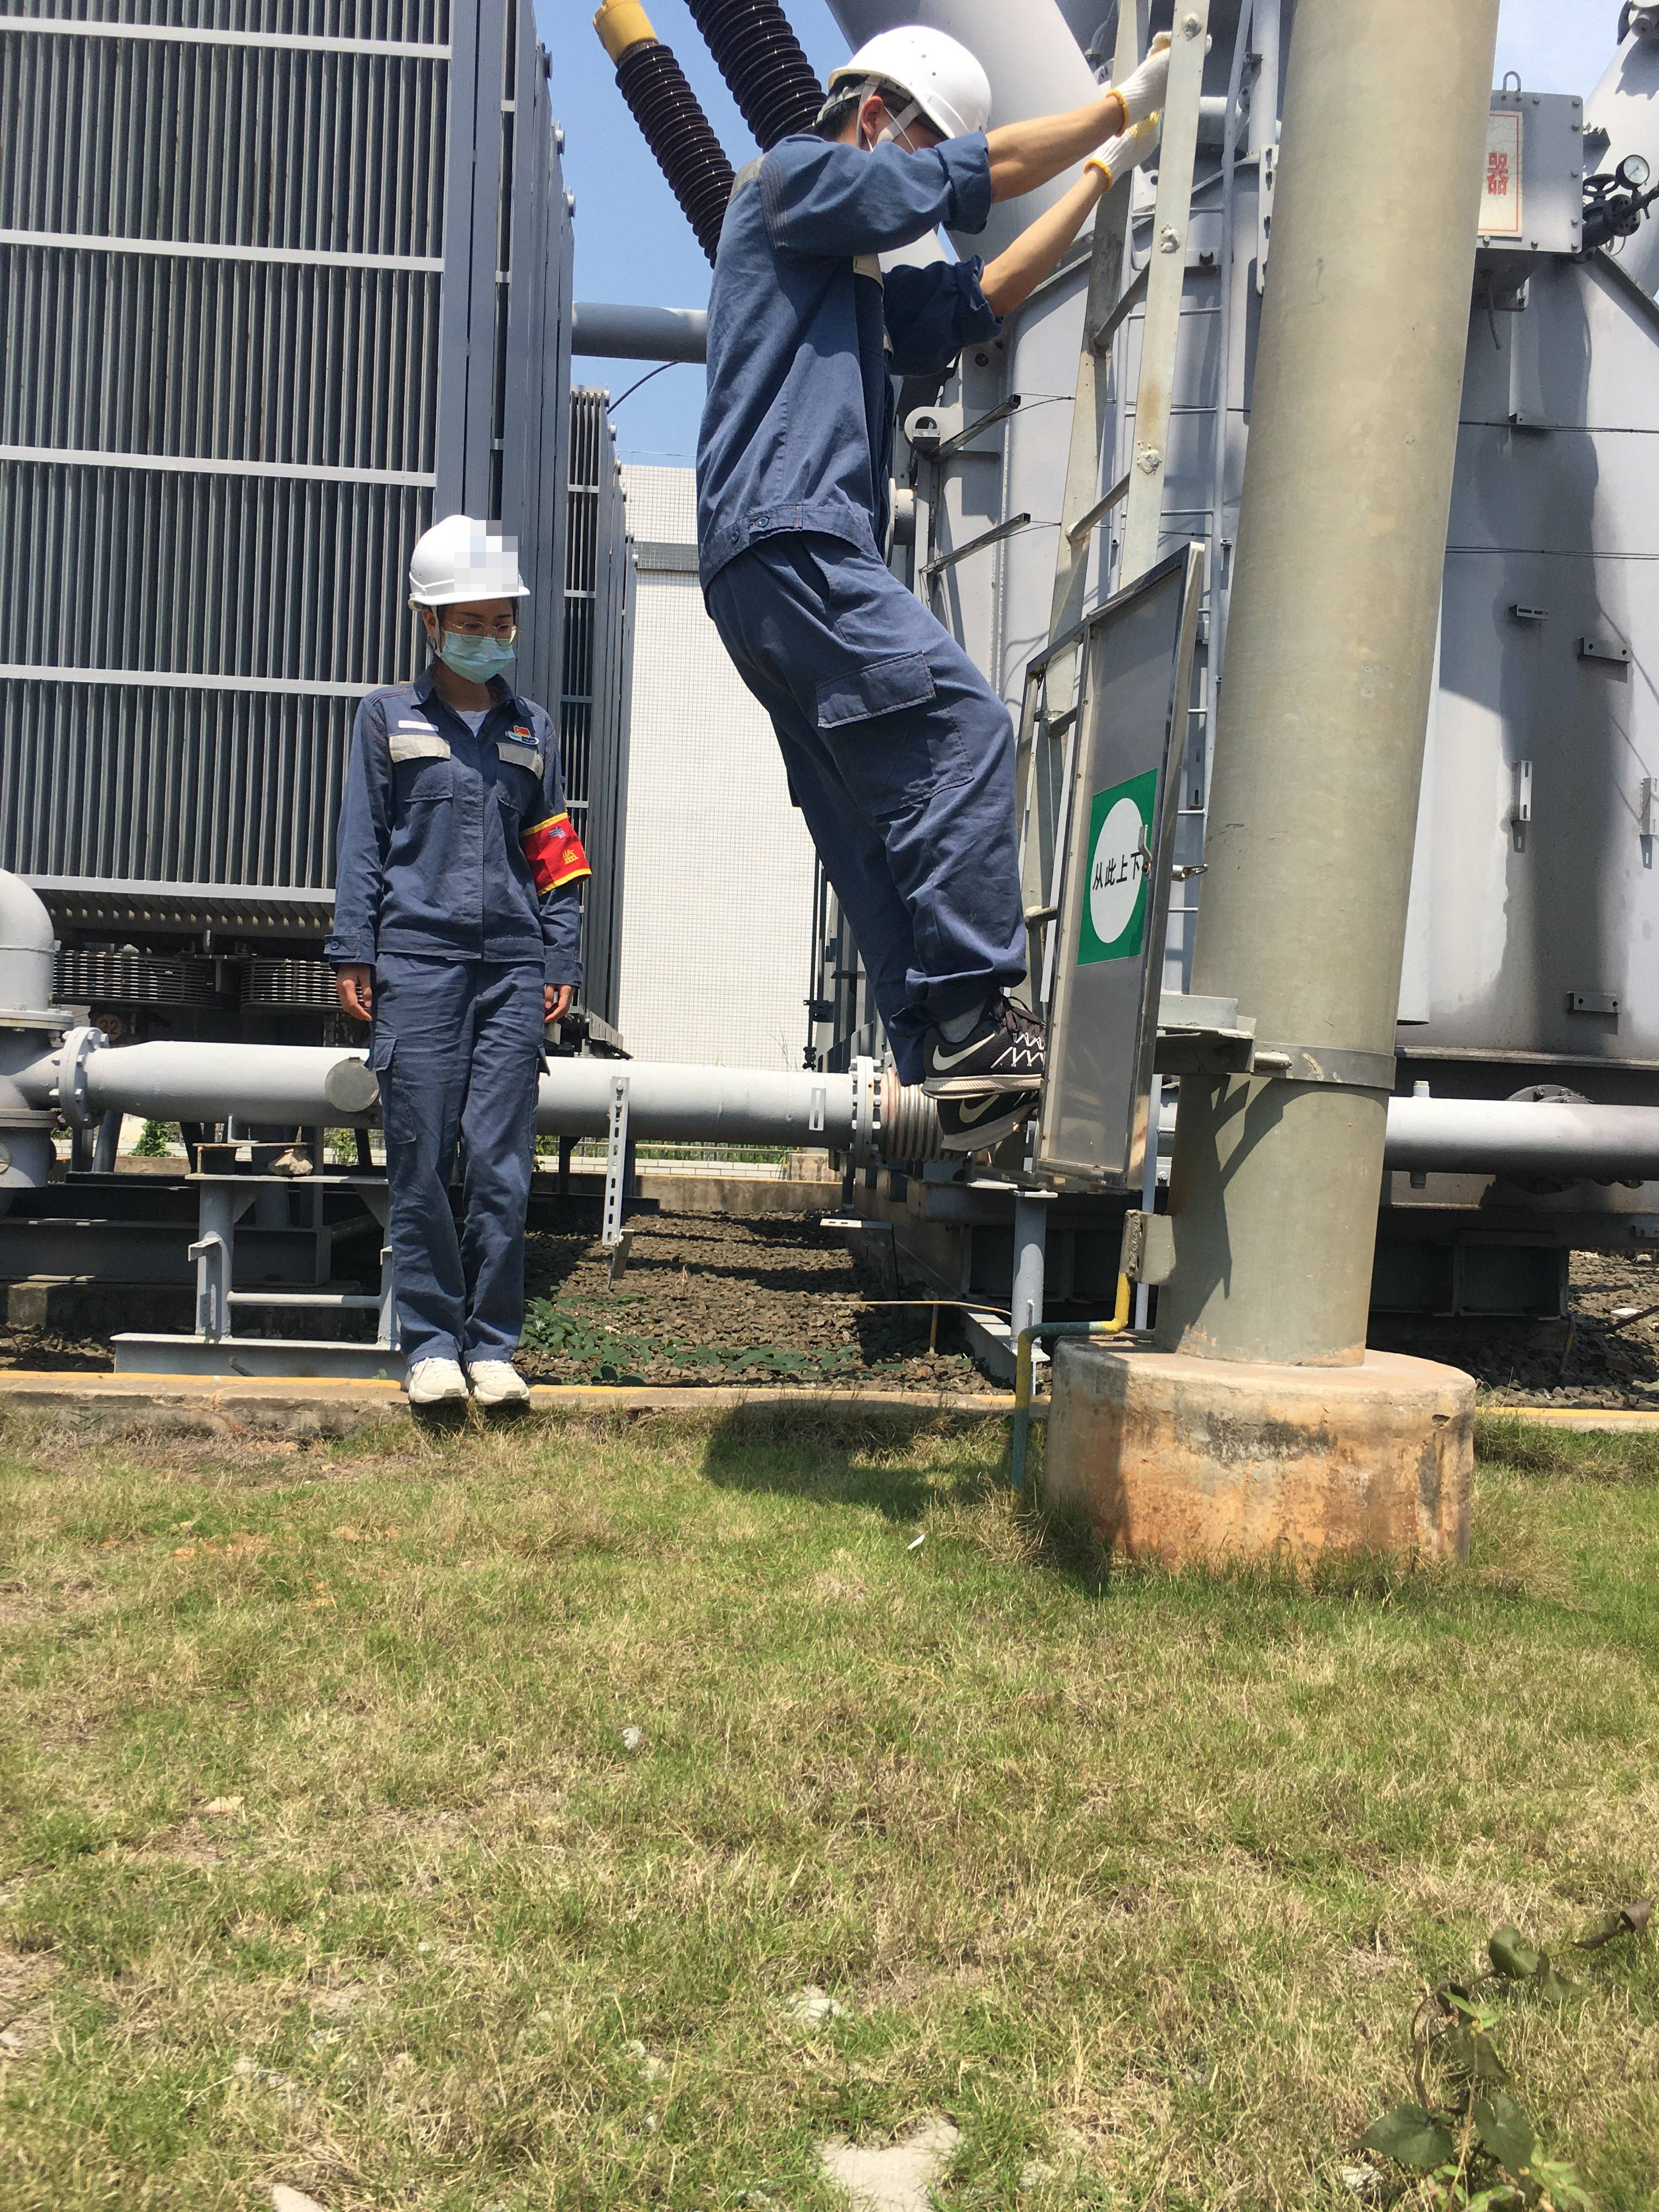downsuit: (687, 571, 1044, 1064), (361, 967, 556, 1357)
upsuit: (697, 127, 999, 549), (321, 672, 606, 937)
wrongtop: (934, 70, 1147, 348)
